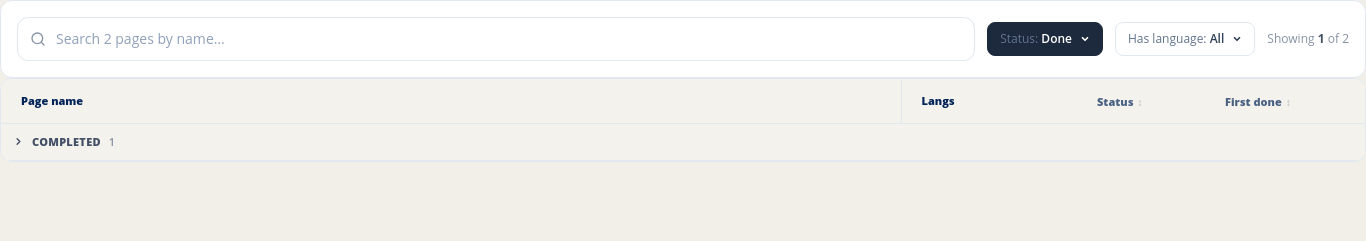
it: PageList (audit, 10 October 2026) › agrees between the pill and the Done filter
Click the button "Completed 1".
click(64, 142)  # box top-left (13, 134), bottom-right (115, 149)
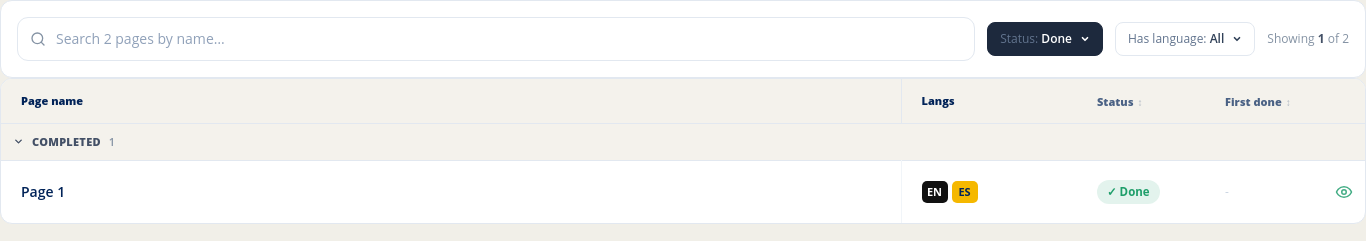
expect the text "Page 1" is shown: met, box top-left (21, 182), bottom-right (65, 202)
expect the text "✓ Done" is shown: met, box top-left (1097, 180), bottom-right (1160, 204)
